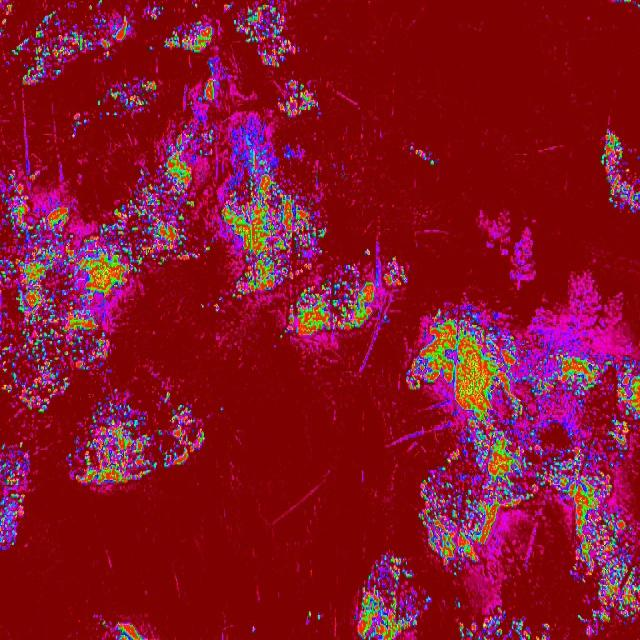fire: (404, 311, 640, 438), (218, 125, 329, 297), (0, 162, 69, 418), (565, 439, 640, 637), (418, 438, 530, 537), (123, 170, 202, 286), (70, 203, 122, 373), (69, 386, 153, 486), (351, 551, 423, 640), (12, 10, 84, 84), (154, 389, 207, 472), (233, 2, 300, 66), (279, 298, 372, 340), (0, 435, 31, 549), (602, 126, 640, 213), (85, 0, 131, 60), (427, 538, 491, 576), (164, 123, 216, 169), (99, 79, 157, 120), (529, 438, 565, 498), (164, 18, 217, 58), (273, 78, 321, 120), (458, 609, 508, 640), (330, 264, 372, 296), (198, 55, 222, 106), (97, 617, 146, 640), (508, 616, 551, 640), (382, 256, 408, 288), (408, 139, 436, 166), (0, 0, 12, 32), (70, 114, 86, 138), (142, 4, 163, 20), (305, 610, 323, 622), (424, 594, 432, 616), (203, 239, 214, 255), (613, 0, 640, 6), (212, 300, 222, 316), (222, 0, 232, 12), (198, 302, 207, 312), (364, 247, 372, 258), (250, 624, 258, 634), (455, 599, 463, 609), (217, 406, 227, 414), (148, 44, 156, 52), (193, 3, 199, 8)
